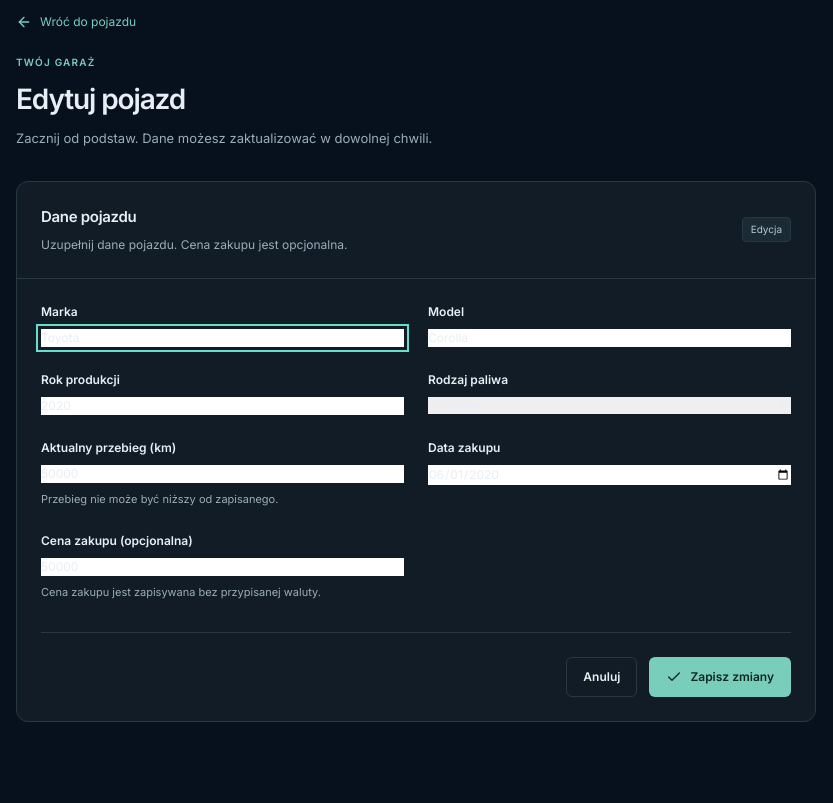
Test: dashboard and vehicle data › shows server validation errors at the related field
The width and height of the screenshot is (833, 803).
Expected: the field labelled "Model" is shown, left=428, top=329, right=791, bottom=347
What coordinates should you click on to do the following:
click the button "Zapisz zmiany"
I would click on:
 (720, 677)
Its box is left=649, top=657, right=791, bottom=697.
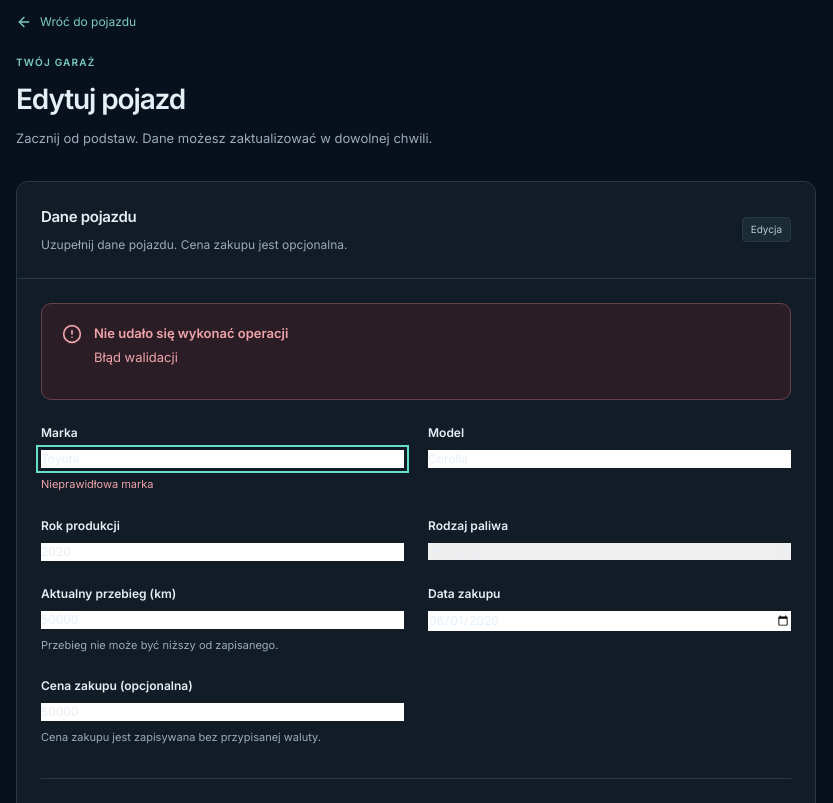
Result: the text "Nieprawidłowa marka" is shown at left=41, top=477, right=154, bottom=491
